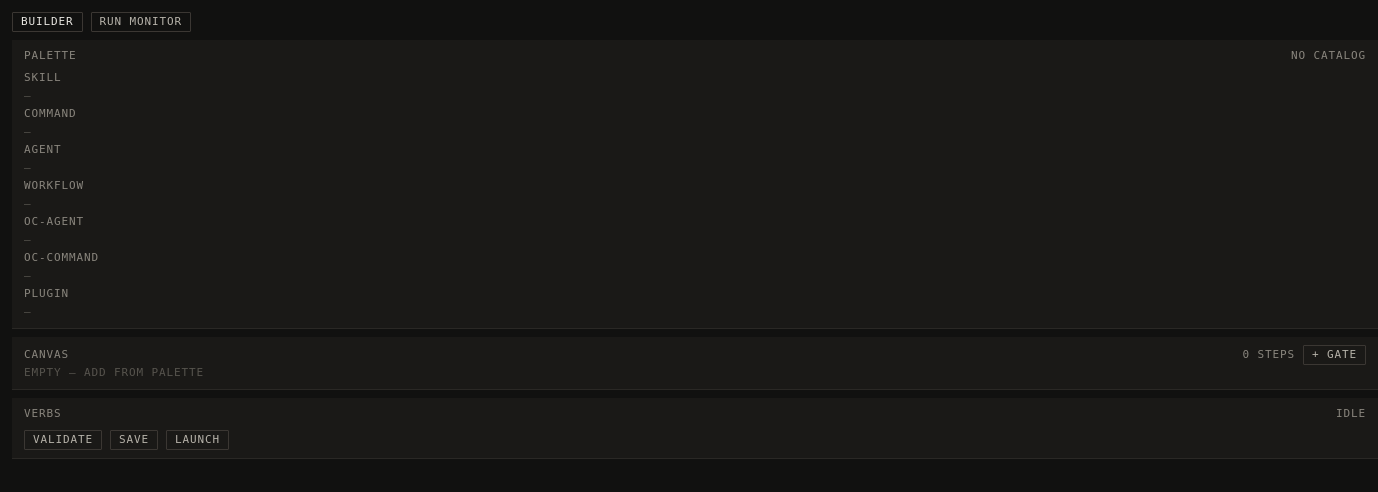
Test: pipelines deck › the builder blocks an empty canvas client-side (bad-shape instrument state)
The width and height of the screenshot is (1378, 492).
Click the button "VALIDATE" at x=63, y=440, box [24,430,102,450]
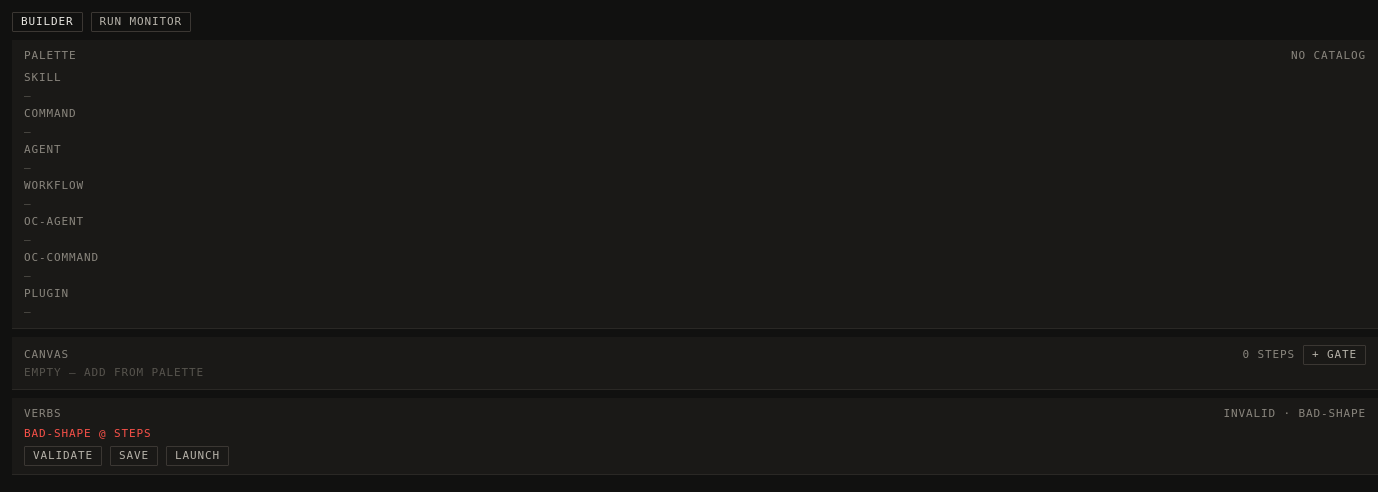
Now the text with test id "pl-verb-readout" shows "INVALID", box [1223,407,1366,420]
Now the text with test id "pl-verb-issue" shows "bad-shape", box [24,427,92,440]
